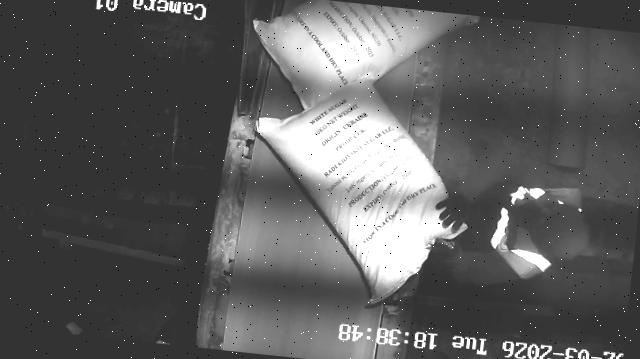bag: (238, 69, 481, 312), (244, 0, 475, 127)
